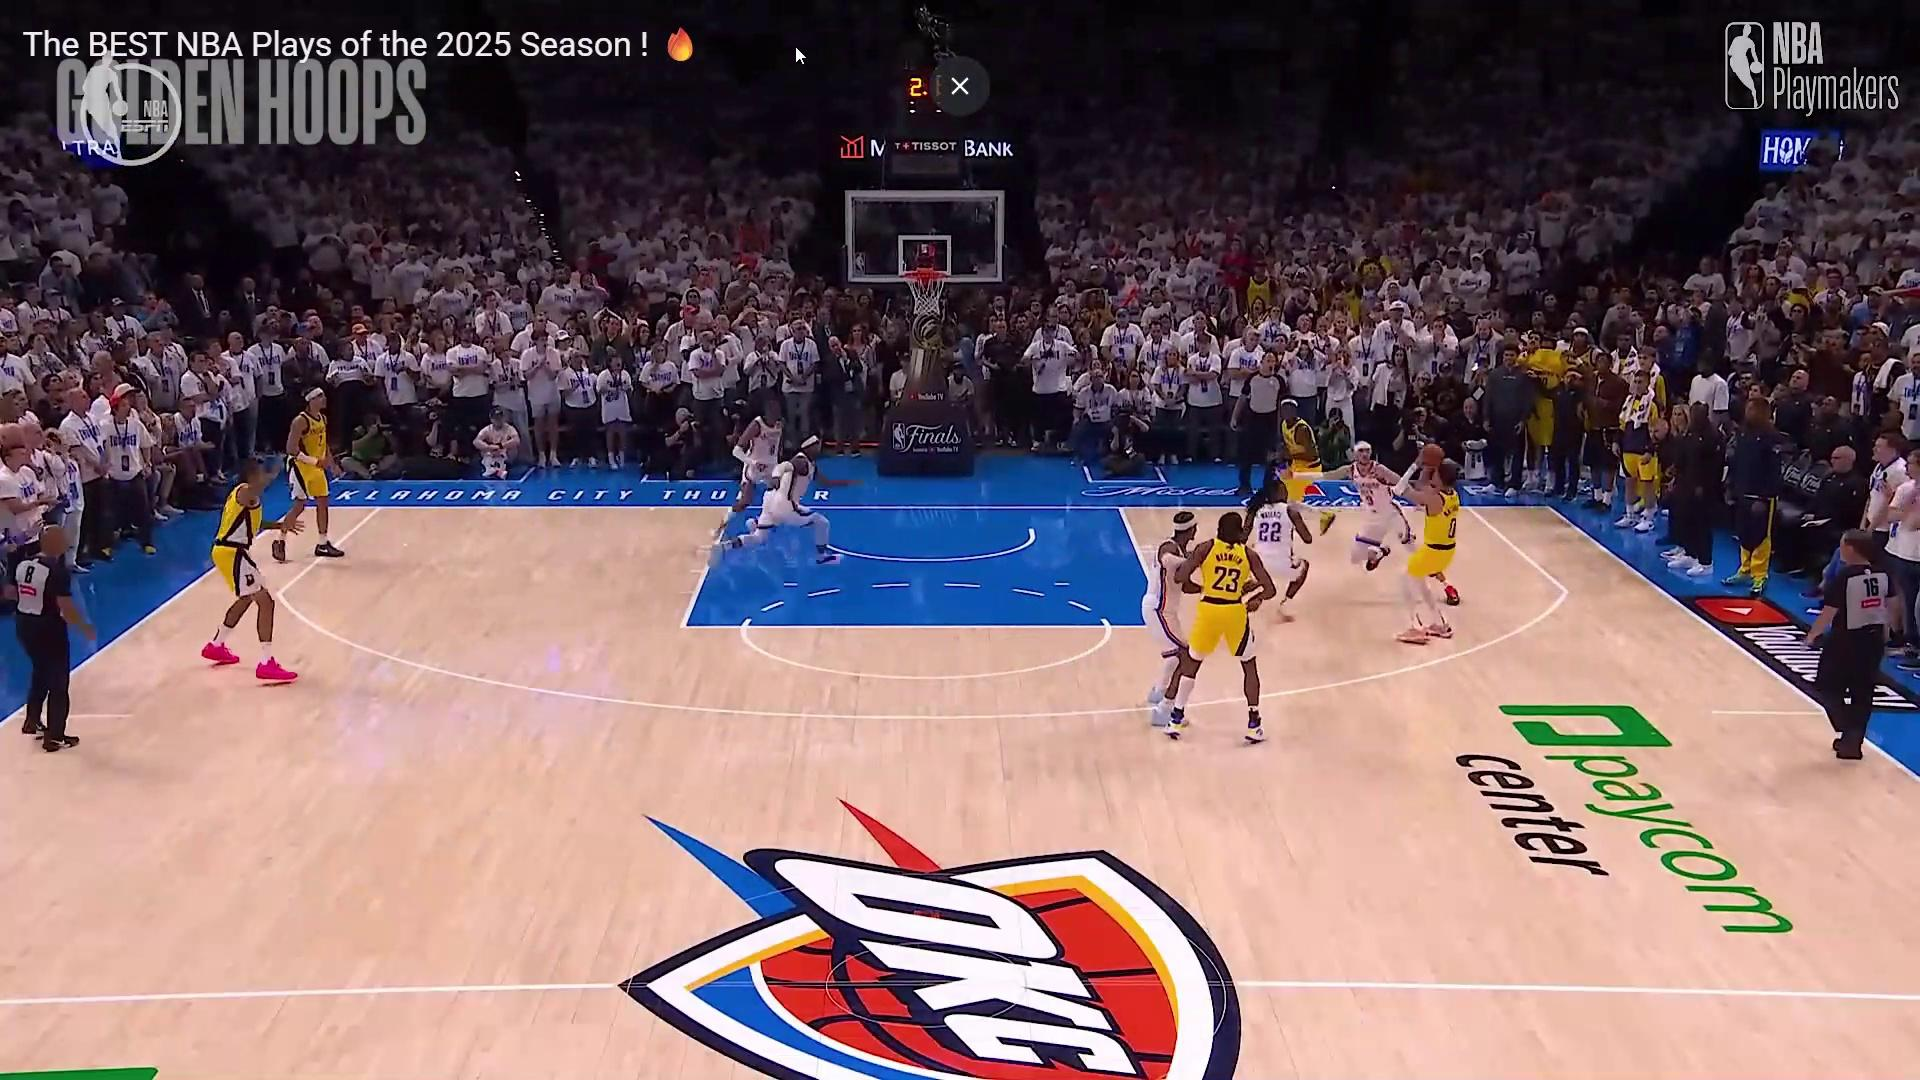ball: (1418, 438, 1445, 471)
hoop: (897, 260, 955, 328)
